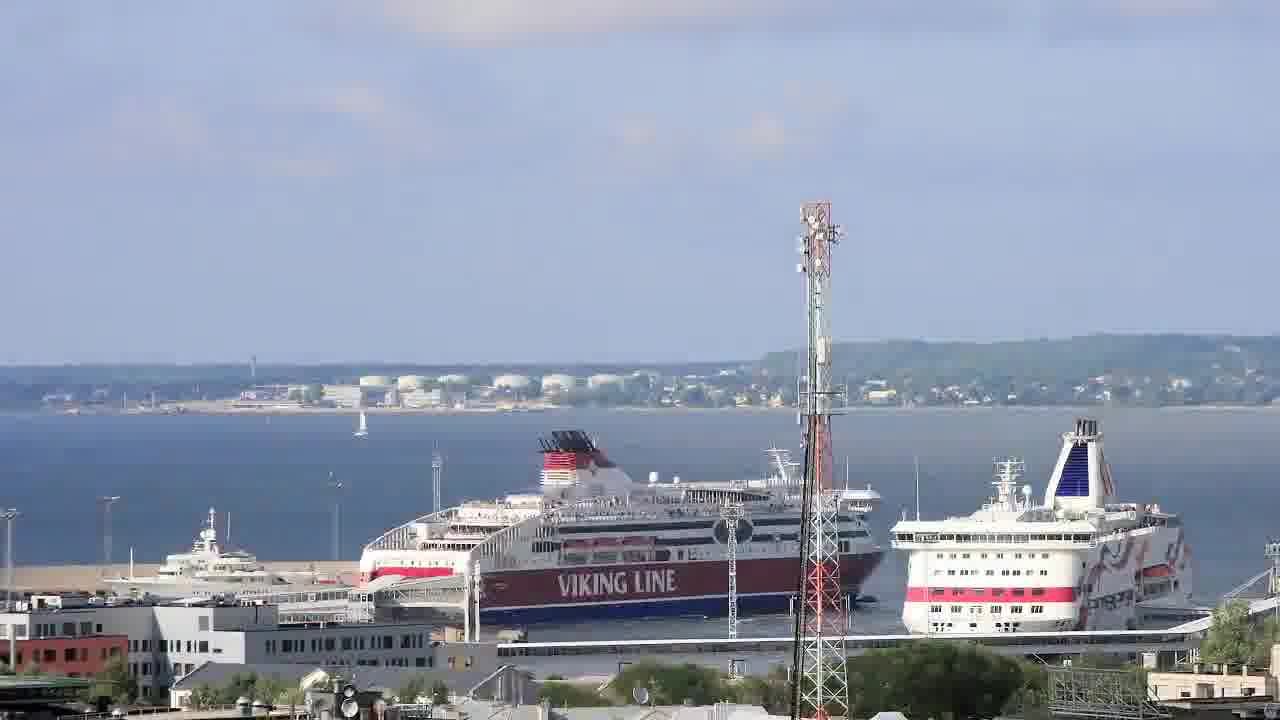type-2: (340, 397, 392, 450)
type-3: (362, 440, 887, 625), (868, 415, 1225, 638), (89, 517, 351, 613)
